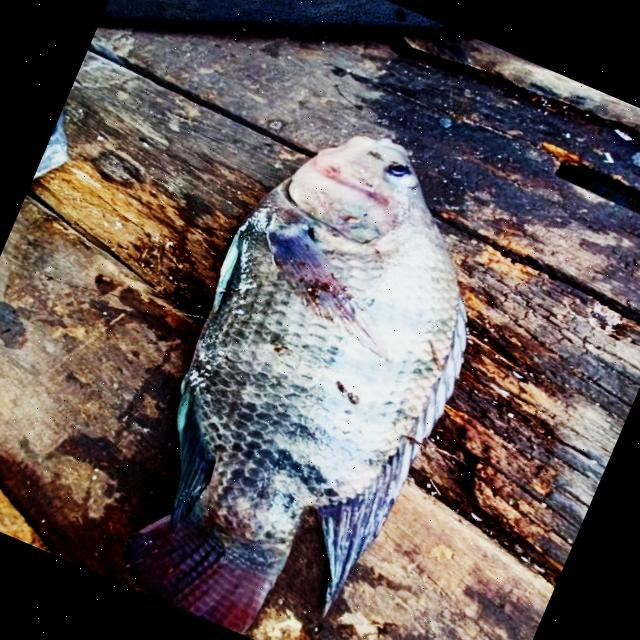Tilapia Lake Virus -TiLV-: (125, 136, 466, 634), (125, 136, 466, 634)
